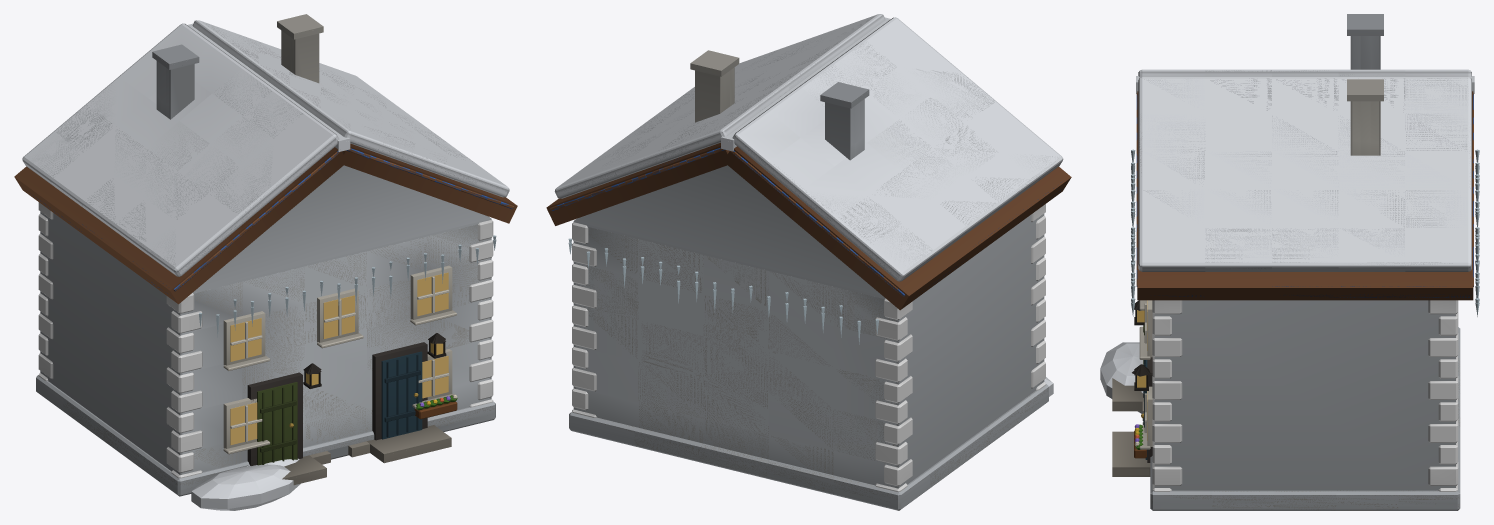
The model's file is houses-ice.glb.
3 renders of one model, left to right at view 1: azimuth 30°, elevation 25°; view 2: azimuth 150°, elevation 25°; view 3: azimuth 270°, elevation 25°, orthographic. The views are drawn at different scales.
Visible parts, largest first — view 1: house_ice_l0, house_ice_l0__lod, house_ice_l1, house_ice_l0__glow, house_ice_l1__lod, house_ice_l1__glow; view 2: house_ice_l0, house_ice_l0__lod, house_ice_l1, house_ice_l1__lod; view 3: house_ice_l0, house_ice_l0__lod, house_ice_l1, house_ice_l1__lod.
Part boxes in pixels (x1,y1,x2,y2): house_ice_l0: (16, 20, 515, 510); house_ice_l0__lod: (14, 23, 517, 475); house_ice_l1: (27, 15, 512, 487); house_ice_l0__glow: (230, 272, 448, 445); house_ice_l1__lod: (247, 14, 452, 485); house_ice_l1__glow: (306, 356, 448, 398); house_ice_l0: (550, 14, 1069, 510); house_ice_l0__lod: (546, 17, 1071, 488); house_ice_l1: (550, 16, 1063, 504); house_ice_l1__lod: (690, 50, 739, 122); house_ice_l0: (1100, 14, 1479, 510); house_ice_l0__lod: (1112, 14, 1474, 490); house_ice_l1: (1114, 70, 1479, 510); house_ice_l1__lod: (1112, 79, 1383, 446).
Size of the model in its own units: 10.05 by 9.98 by 8.81.
